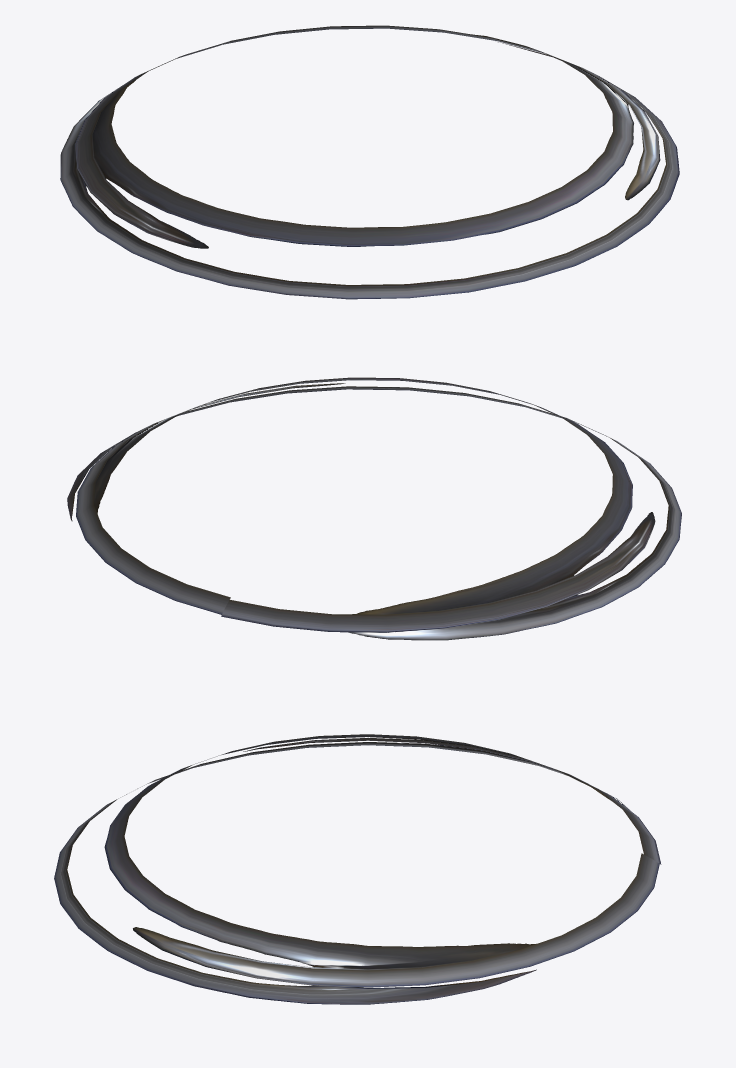
3 views of the same model, one above another, from view 1: azimuth 30°, elevation 25°; view 2: azimuth 150°, elevation 25°; view 3: azimuth 270°, elevation 25° (orthographic).
Visible parts, largest first — view 1: Sphere_801; view 2: Sphere_801; view 3: Sphere_801.
Part boxes in pixels (x1,y1,x2,y2): Sphere_801: [60, 25, 679, 299]; Sphere_801: [67, 377, 681, 640]; Sphere_801: [54, 734, 661, 1004].
Bounding box in the file's own units: 17.13 × 2.64 × 17.13.
